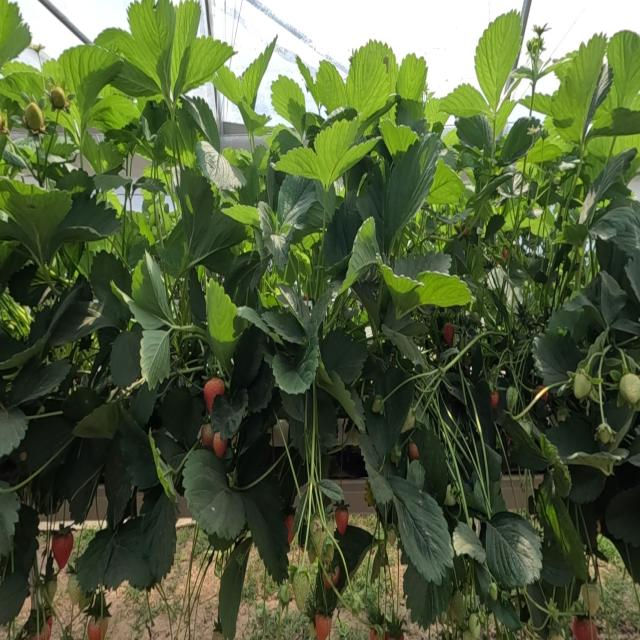Flowers: (526, 25, 546, 65)
Leaves: (238, 429, 290, 583), (389, 476, 452, 583), (386, 133, 442, 247), (549, 33, 606, 140), (49, 45, 122, 125), (183, 448, 244, 539), (2, 184, 71, 262), (314, 110, 376, 188), (474, 11, 521, 112), (0, 505, 39, 624), (95, 28, 159, 99), (485, 511, 542, 588), (578, 149, 636, 224), (128, 0, 175, 91), (364, 367, 414, 452), (51, 191, 119, 253), (346, 41, 396, 120), (64, 439, 111, 523), (551, 475, 587, 580), (49, 280, 102, 347), (218, 537, 251, 639), (21, 413, 75, 475), (106, 517, 151, 590), (118, 412, 159, 490), (89, 251, 131, 327), (191, 210, 246, 267), (340, 217, 381, 293), (206, 280, 239, 374), (143, 491, 176, 583), (179, 37, 233, 93), (132, 252, 174, 324), (440, 85, 493, 142), (323, 190, 361, 268), (9, 359, 71, 406), (271, 335, 320, 394), (266, 129, 301, 210), (545, 413, 604, 461), (178, 169, 214, 246), (412, 425, 447, 504), (161, 386, 204, 449), (533, 331, 583, 385), (358, 432, 395, 504), (548, 293, 604, 340), (588, 197, 639, 248), (320, 329, 367, 384), (503, 415, 548, 472), (171, 1, 199, 89), (104, 437, 131, 528), (607, 31, 639, 107), (241, 37, 275, 108), (76, 528, 113, 591), (196, 144, 245, 191), (258, 202, 292, 269), (271, 75, 306, 138), (224, 251, 267, 300), (89, 89, 138, 131), (414, 271, 471, 307), (605, 487, 639, 547), (277, 175, 316, 227), (1, 1, 31, 67), (0, 61, 47, 103), (182, 96, 219, 149), (110, 326, 142, 387), (500, 117, 541, 164), (74, 399, 122, 439), (359, 166, 385, 239), (211, 388, 247, 439), (382, 325, 425, 367), (140, 328, 170, 388), (426, 159, 465, 204), (159, 218, 187, 278), (301, 290, 332, 344), (472, 380, 496, 449), (340, 136, 382, 175), (455, 115, 494, 156), (316, 61, 346, 114), (394, 252, 450, 280), (277, 286, 310, 333), (261, 309, 306, 343), (275, 147, 320, 180), (591, 107, 640, 137), (541, 539, 572, 586), (600, 270, 626, 326), (352, 280, 381, 329), (379, 119, 418, 155), (83, 140, 125, 173), (396, 53, 426, 99), (236, 99, 270, 139), (453, 522, 486, 563), (1, 407, 27, 455), (155, 120, 182, 166), (384, 303, 422, 335), (0, 493, 19, 555), (396, 98, 426, 135), (239, 163, 262, 205), (188, 269, 205, 324), (56, 168, 93, 193), (528, 206, 555, 238), (424, 92, 449, 126), (222, 204, 259, 226), (498, 174, 530, 199), (295, 55, 315, 94), (236, 307, 268, 331), (450, 240, 469, 276), (91, 175, 131, 190), (490, 290, 509, 321), (509, 260, 531, 286), (563, 224, 588, 246), (135, 176, 164, 193), (485, 215, 505, 239), (439, 209, 470, 223), (312, 94, 320, 111), (533, 206, 541, 213)
Strawberries: (292, 567, 311, 610), (52, 531, 73, 568), (309, 516, 326, 560), (580, 583, 599, 615), (204, 379, 223, 411), (619, 374, 639, 404), (24, 103, 43, 131), (572, 617, 595, 639), (68, 573, 83, 606), (48, 86, 67, 109), (314, 614, 331, 639), (87, 617, 106, 639), (574, 373, 590, 399), (200, 424, 214, 449), (401, 408, 415, 433), (466, 613, 479, 639), (334, 509, 347, 533), (213, 433, 226, 457), (597, 424, 611, 443), (285, 514, 294, 543), (45, 580, 56, 602), (408, 441, 419, 461), (443, 324, 453, 344), (41, 621, 51, 639), (373, 397, 383, 413), (369, 627, 380, 639), (491, 391, 499, 407), (326, 552, 332, 561)
